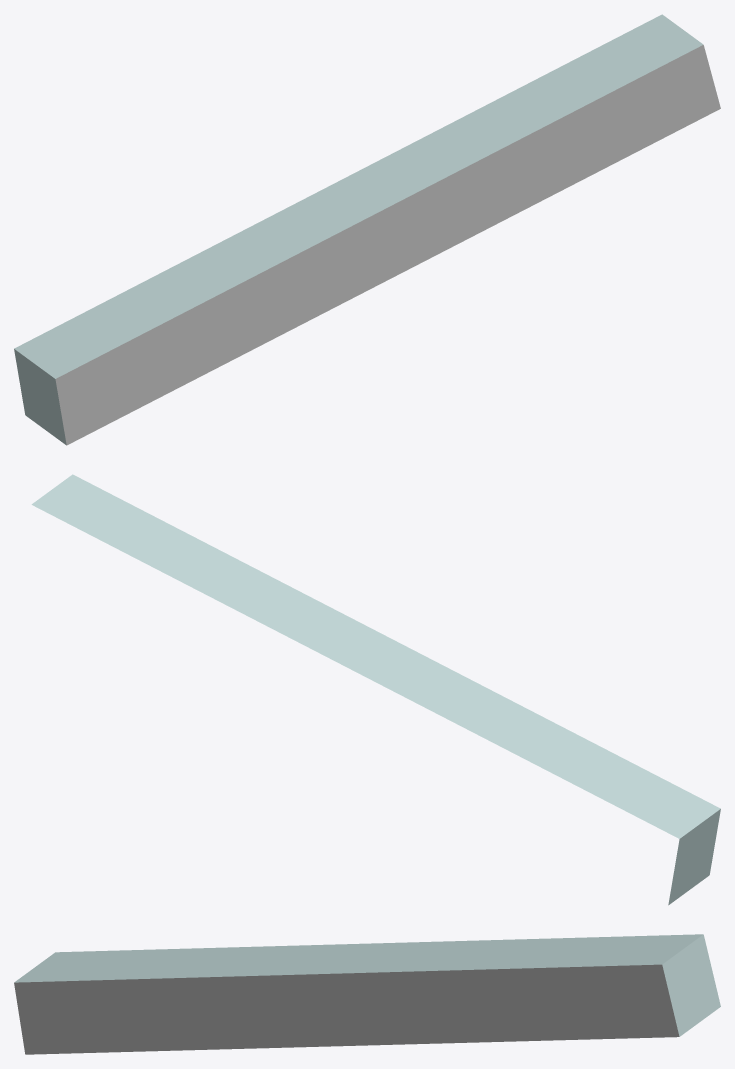
3 renders of one model, top to bottom at view 1: azimuth 30°, elevation 25°; view 2: azimuth 150°, elevation 25°; view 3: azimuth 330°, elevation 25°, orthographic.
Visible parts, largest first — view 1: 0_3_1_0_2_1_1_2_2; view 2: 0_3_1_0_2_1_1_2_2; view 3: 0_3_1_0_2_1_1_2_2.
Boxes of the visible parts, x1,y1,x2,y2 form: 0_3_1_0_2_1_1_2_2: [14, 14, 720, 445]; 0_3_1_0_2_1_1_2_2: [31, 474, 720, 905]; 0_3_1_0_2_1_1_2_2: [14, 934, 720, 1054].
Bounding box in the file's own units: 27.81 × 9.8 × 3.
